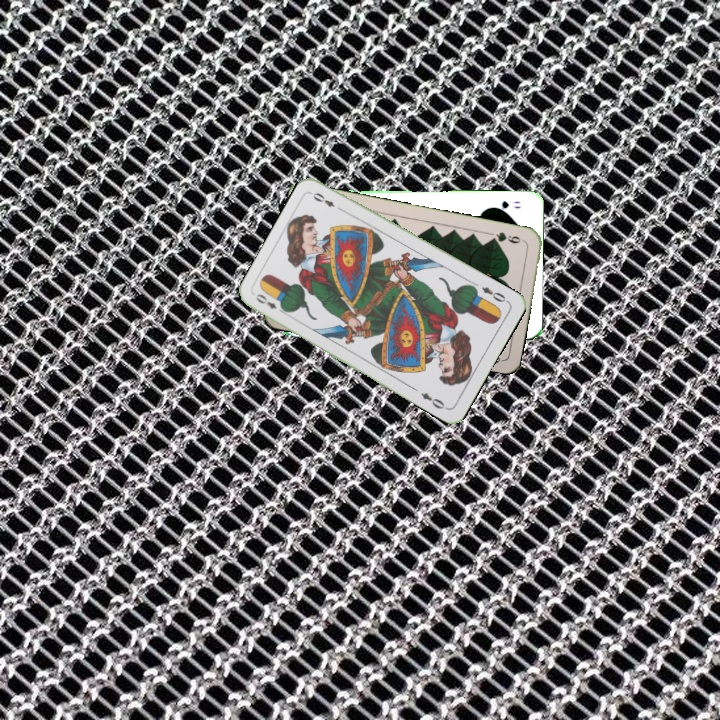EO: (251, 290, 289, 316), (477, 283, 511, 305)
G9: (486, 228, 528, 246)
GO: (487, 197, 524, 213)
